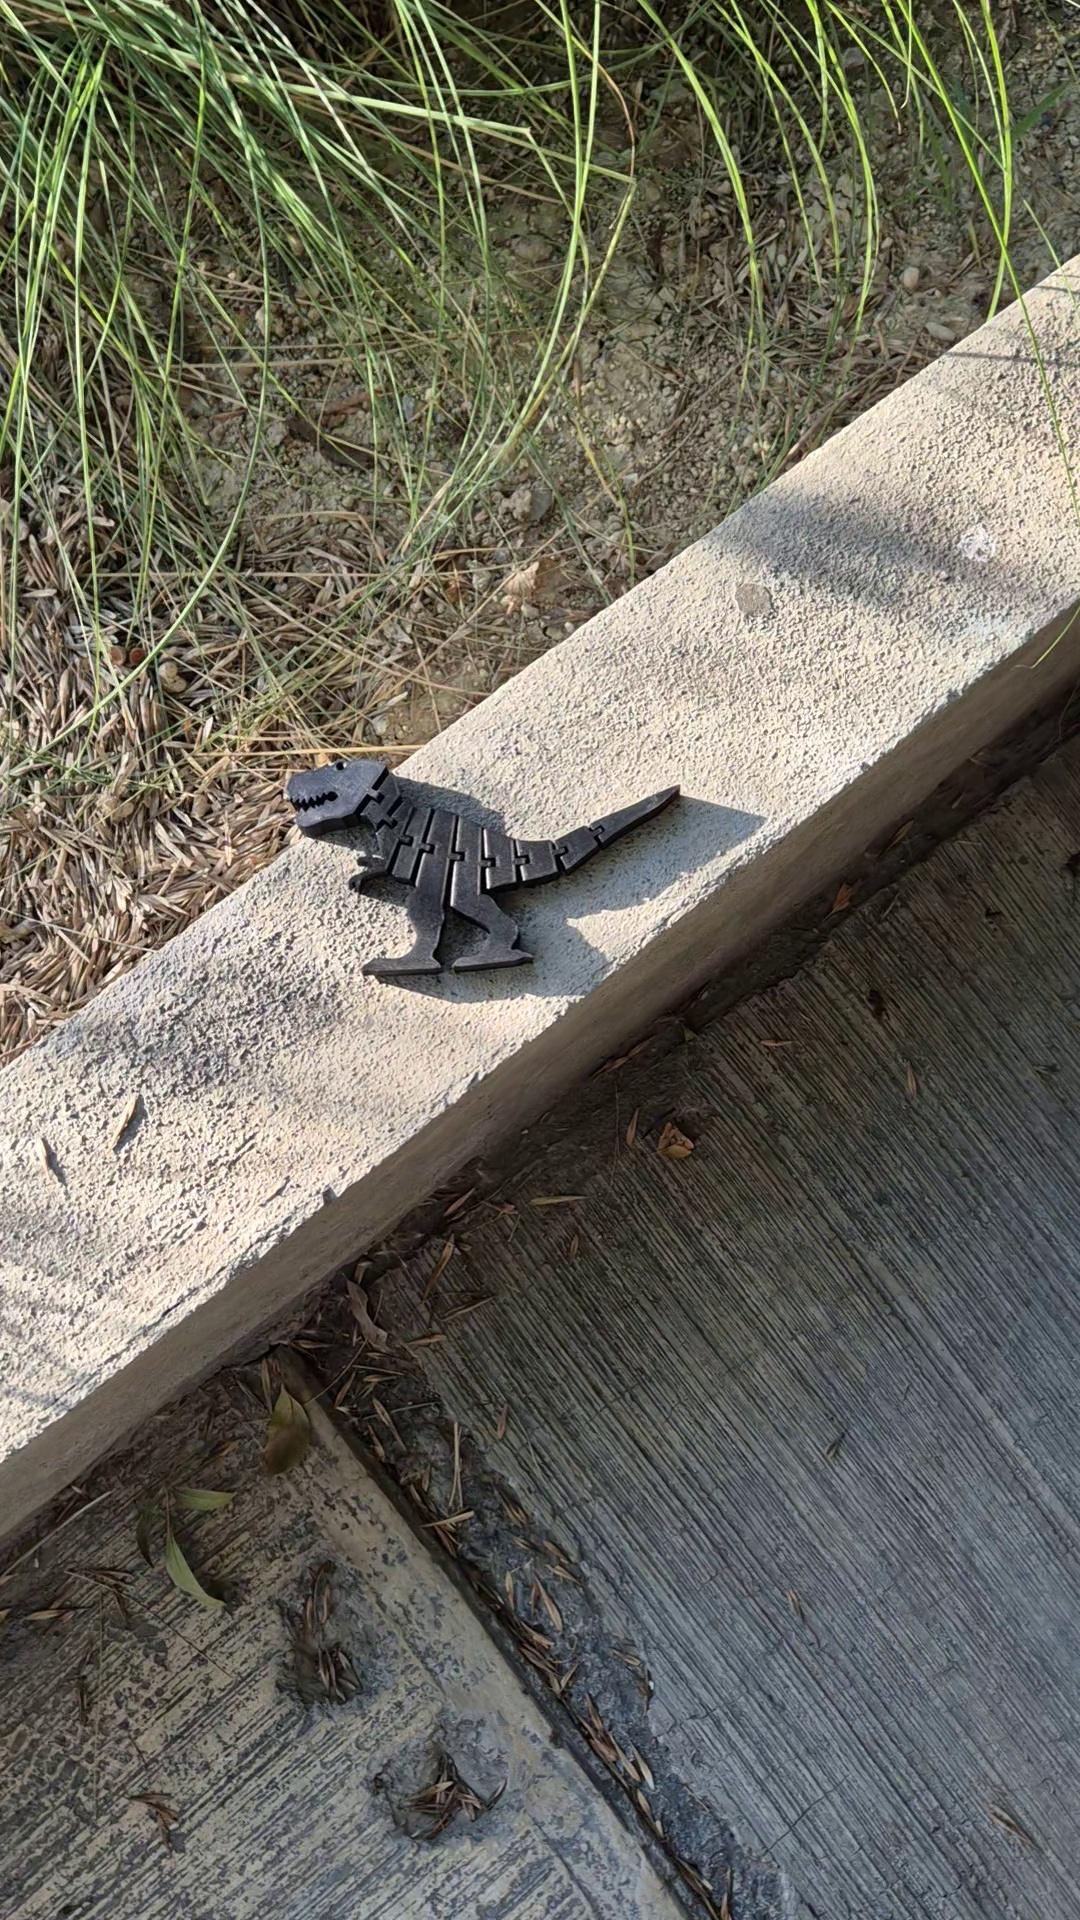dinosaur: (286, 757, 682, 978)
